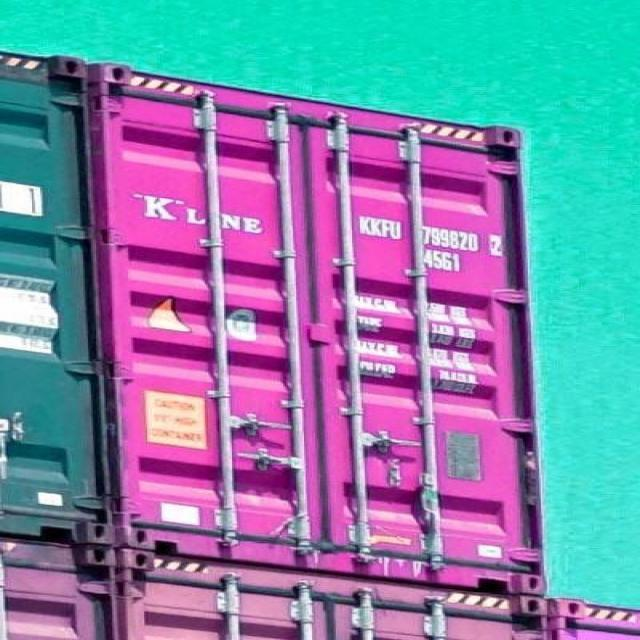ISO: (424, 251, 464, 272)
container_number: (363, 225, 502, 251)
